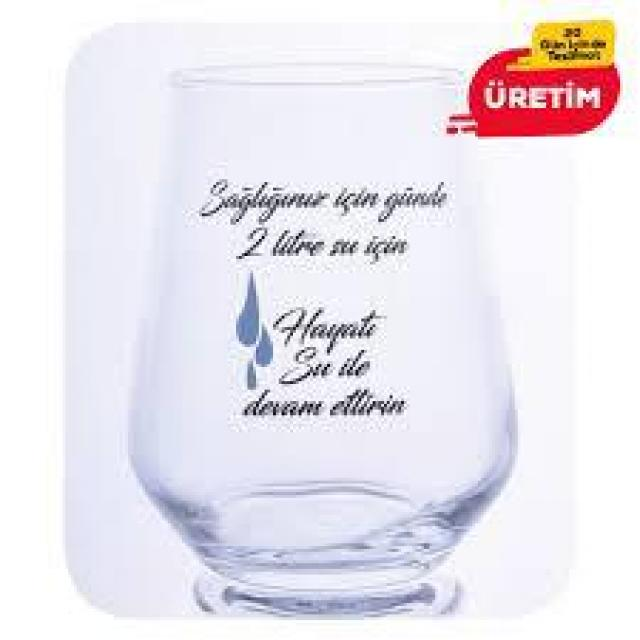non-organic waste: (118, 54, 525, 626)
